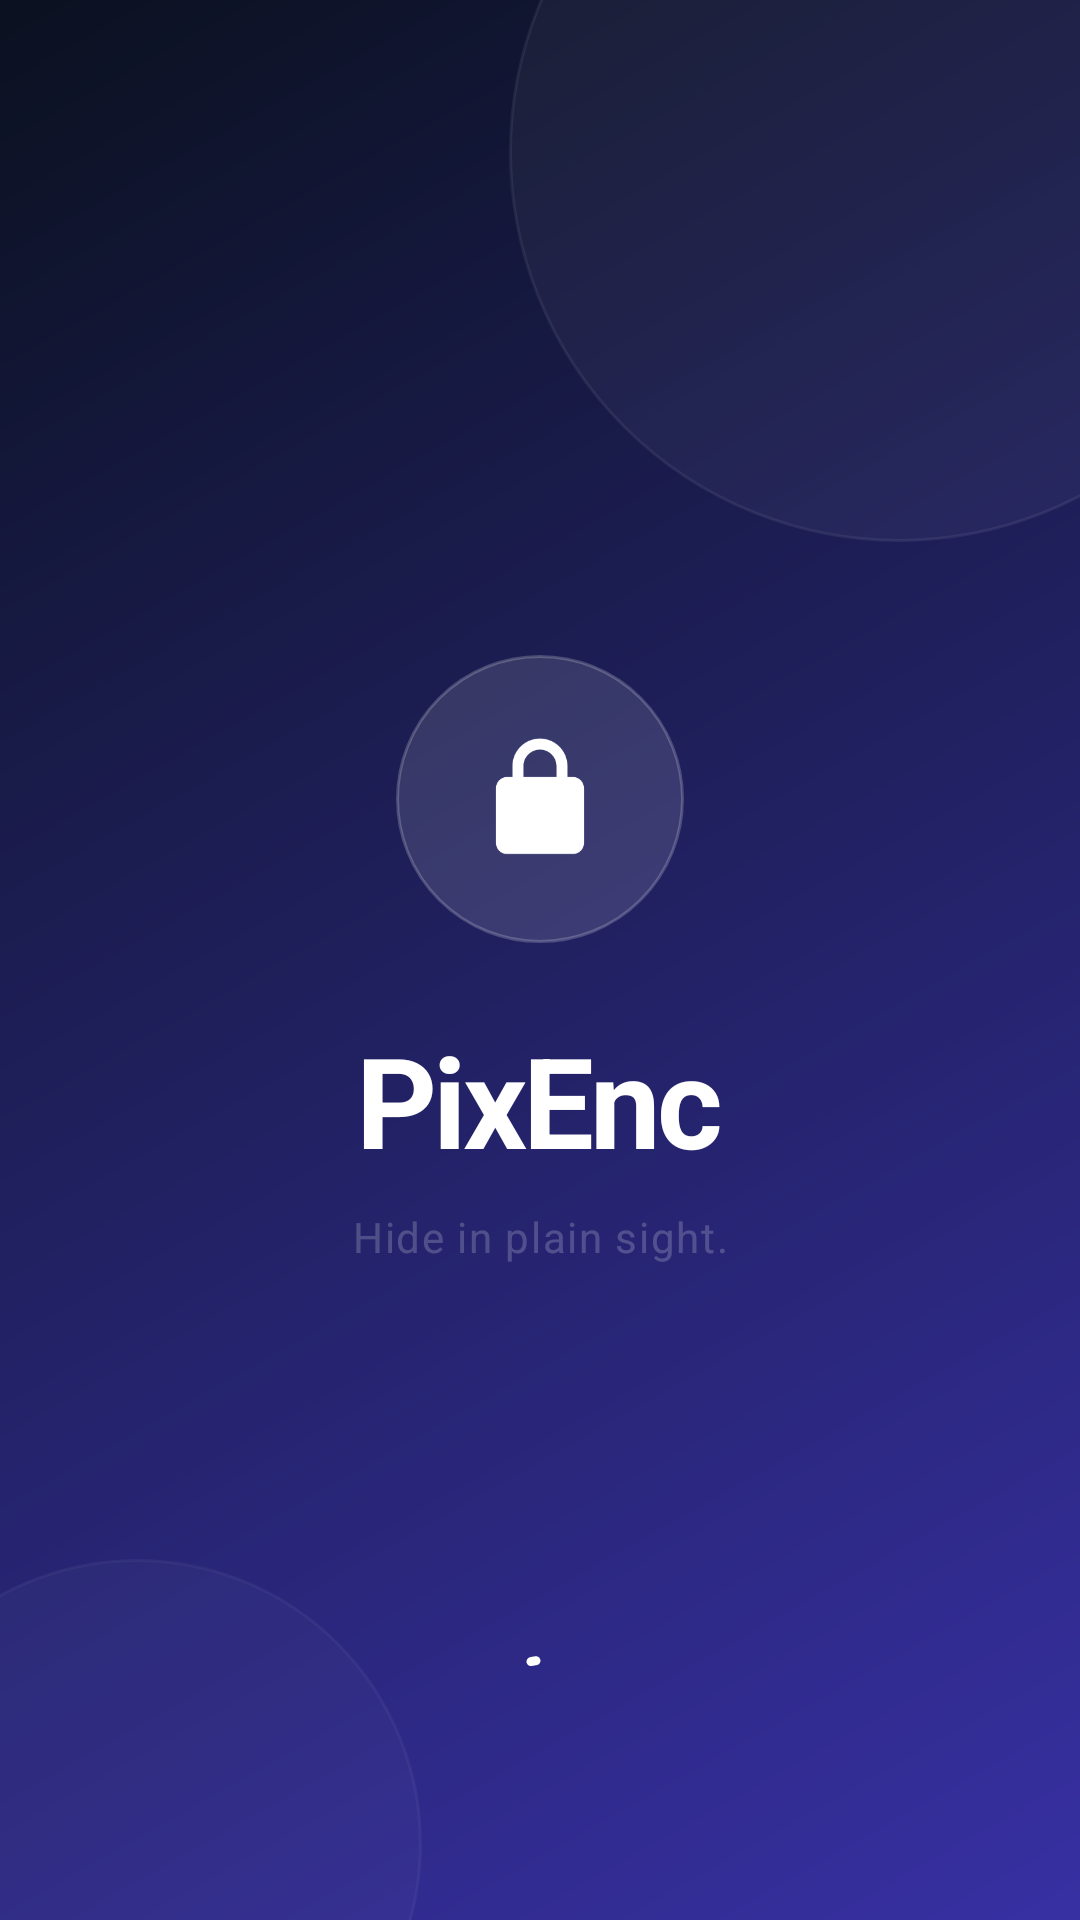

Screen size 1080x1920. Icon name, then its center in pixels as (x,y):
lock: (540,799)
